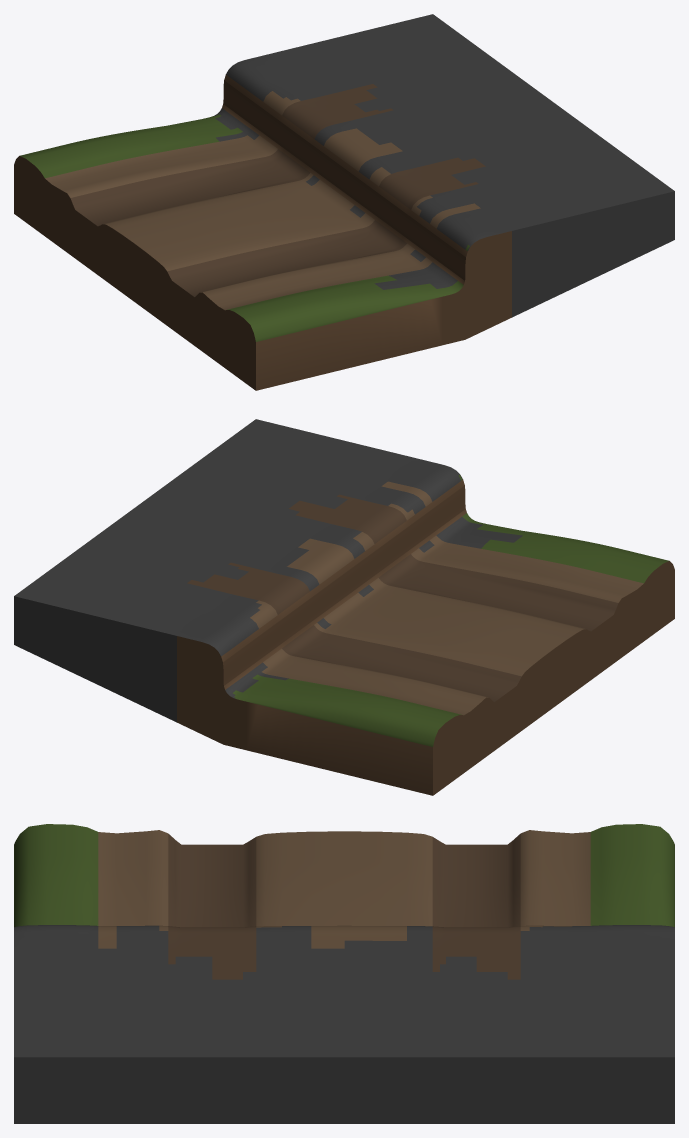
3 views of the same model, one above another, from view 1: azimuth 30°, elevation 25°; view 2: azimuth 150°, elevation 25°; view 3: azimuth 270°, elevation 25° (orthographic). The views are drawn at different scales.
Parts seen in each view (by area): view 1: k1t; view 2: k1t; view 3: k1t.
Part boxes in pixels (left/top/right/bottom): k1t: left=14, top=14, right=674, bottom=390; k1t: left=14, top=419, right=674, bottom=795; k1t: left=14, top=824, right=674, bottom=1123.
Size of the model in its own units: 9 by 2.02 by 9.
